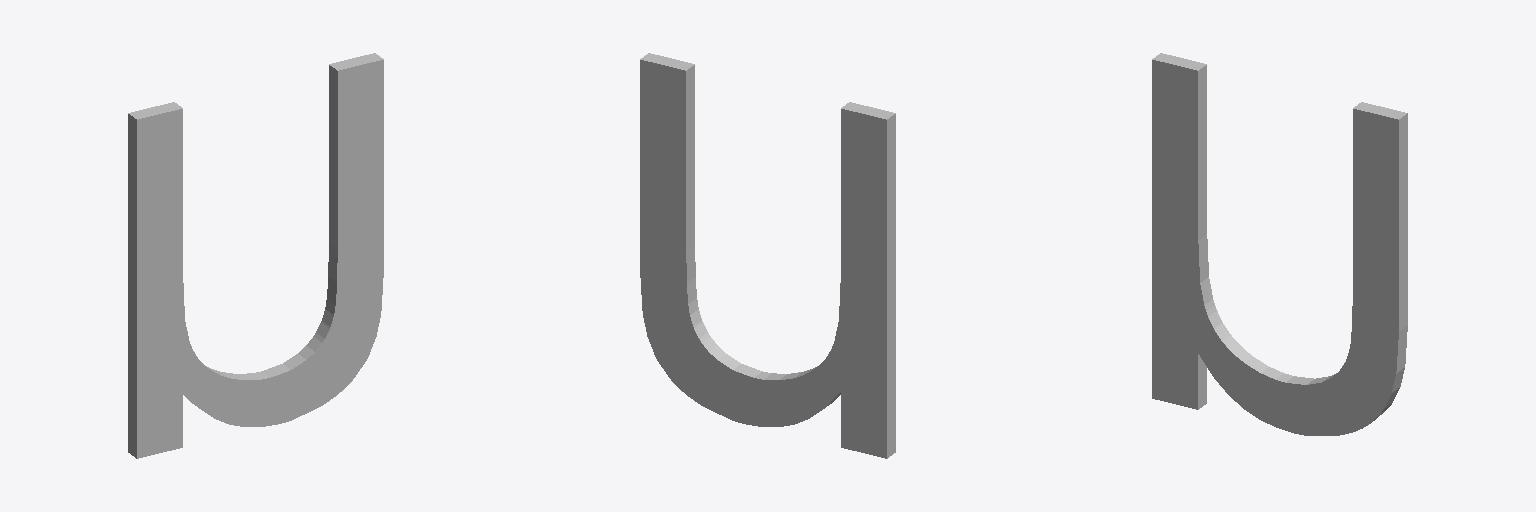
File: u_lower.obj
The picture shows the model from 3 angles: view 1: azimuth 30°, elevation 25°; view 2: azimuth 150°, elevation 25°; view 3: azimuth 330°, elevation 25°; orthographic projection.
Parts seen in each view (by area): view 1: default; view 2: default; view 3: default.
Part boxes in pixels (left/top/right/bottom): default: left=128, top=53, right=383, bottom=458; default: left=640, top=53, right=895, bottom=458; default: left=1152, top=53, right=1407, bottom=435.
Bounding box in the file's own units: 1.6 × 2.1 × 0.1.